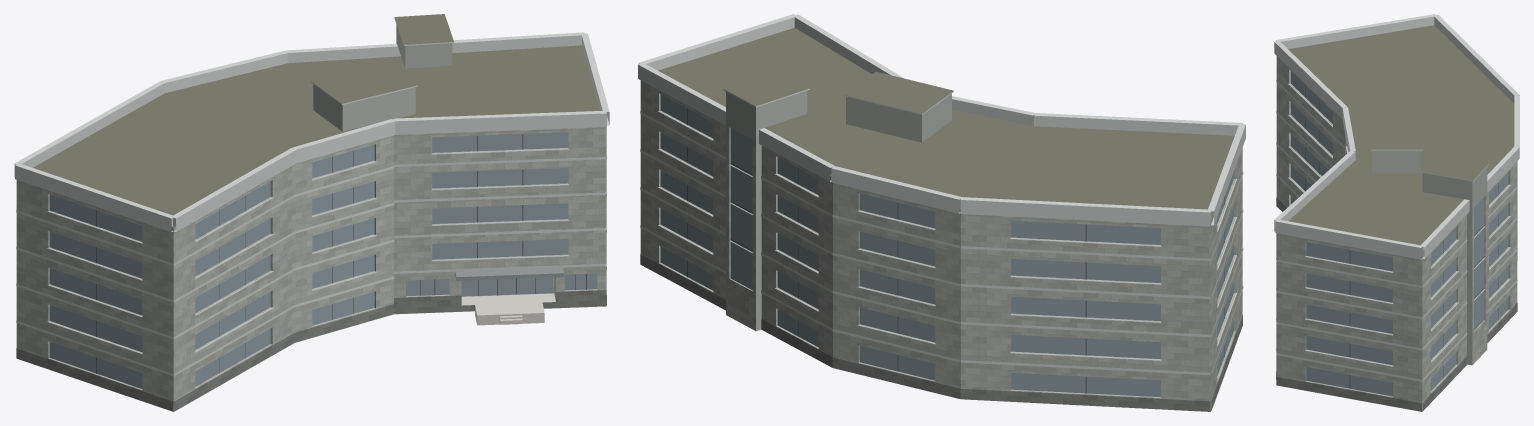
3 renders of one model, left to right at view 1: azimuth 30°, elevation 25°; view 2: azimuth 150°, elevation 25°; view 3: azimuth 270°, elevation 25°, orthographic. The views are drawn at different scales.
Parts seen in each view (by area): view 1: b138__wall, b138__roof, b138__glass, b138__trim, b138__base, b138__wall2, b138__entranceStair, b138__canopy, b138__frame; view 2: b138__wall, b138__roof, b138__glass, b138__trim, b138__base, b138__wall2, b138__frame; view 3: b138__roof, b138__wall, b138__trim, b138__glass, b138__wall2, b138__base, b138__frame.
Part boxes in pixels (left/top/right/bottom): b138__wall: left=16, top=127, right=606, bottom=411; b138__roof: left=33, top=14, right=605, bottom=411; b138__glass: left=49, top=132, right=597, bottom=388; b138__trim: left=14, top=17, right=609, bottom=375; b138__base: left=16, top=290, right=606, bottom=411; b138__wall2: left=313, top=24, right=452, bottom=131; b138__entranceStair: left=461, top=293, right=555, bottom=325; b138__canopy: left=455, top=266, right=564, bottom=280; b138__frame: left=96, top=134, right=586, bottom=373; b138__wall: left=640, top=80, right=1242, bottom=411; b138__roof: left=658, top=27, right=1234, bottom=221; b138__glass: left=660, top=94, right=1233, bottom=397; b138__trim: left=638, top=14, right=1245, bottom=375; b138__base: left=640, top=254, right=1242, bottom=411; b138__wall2: left=726, top=91, right=951, bottom=331; b138__frame: left=687, top=108, right=1224, bottom=393; b138__roof: left=1288, top=25, right=1514, bottom=411; b138__wall: left=1276, top=56, right=1517, bottom=411; b138__trim: left=1274, top=14, right=1519, bottom=381; b138__glass: left=1291, top=71, right=1508, bottom=396; b138__wall2: left=1372, top=150, right=1487, bottom=365; b138__base: left=1276, top=197, right=1517, bottom=411; b138__frame: left=1305, top=85, right=1498, bottom=388.
Size of the model in its own units: 57.82 by 21.77 by 25.68.
Materials: 10 (2 with a texture image).
